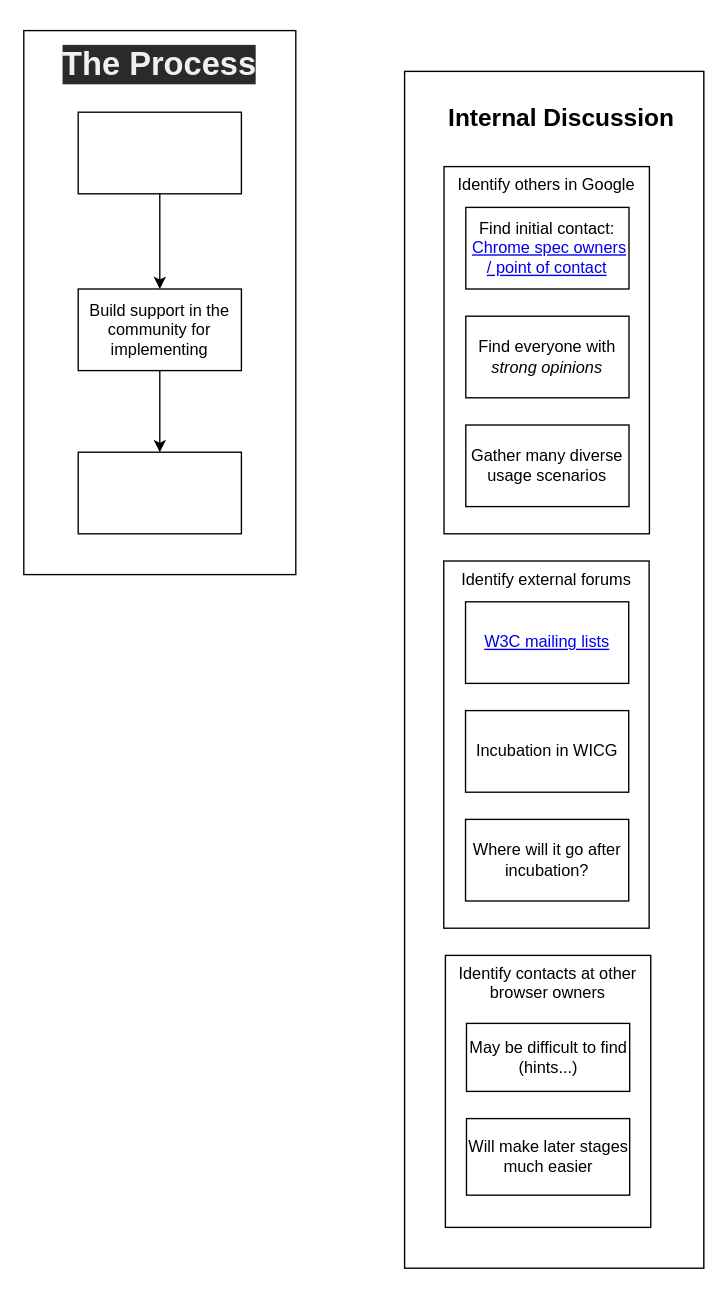
Some shapes in this 728 by 1292 pixel diagram are drawn without their labels. Here are the shapes that lost their labels. From the top down, the centre of each, then its label:
At (x=159, y=152): "Identify/clarify the need for the feature".
At (x=159, y=492): "Formalize the specification and implement".
